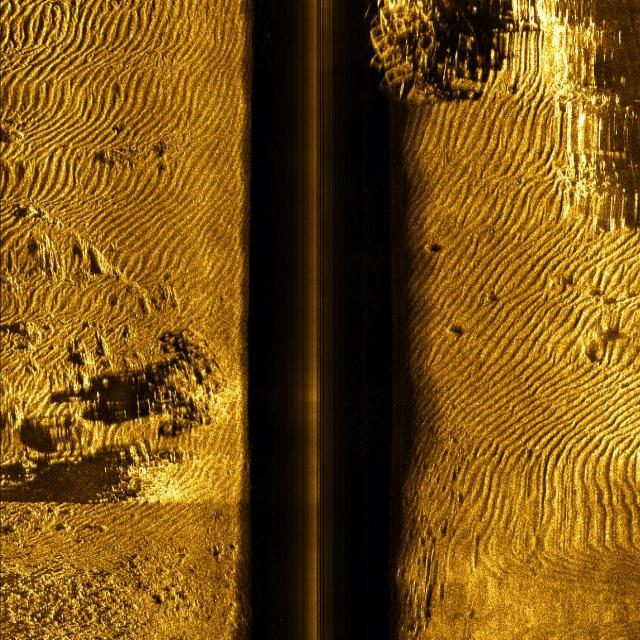artificial reef: (367, 0, 470, 107)
